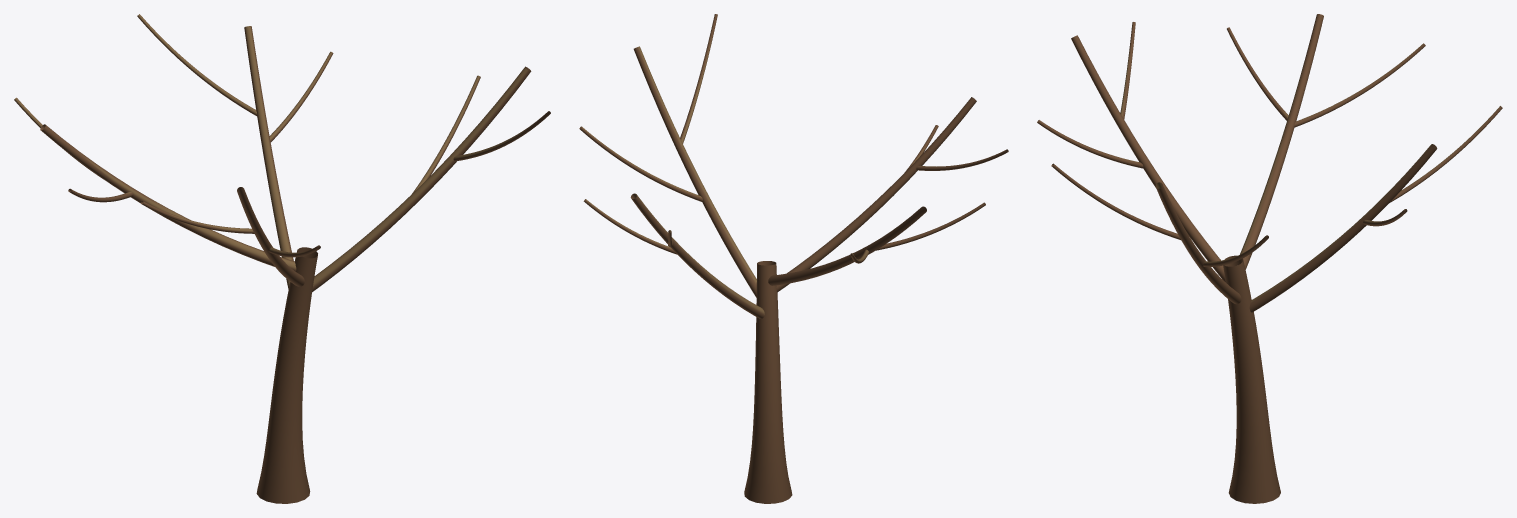
Rendered from colony-acacia-bark.obj.
3 views of the same model, side by side, from view 1: azimuth 30°, elevation 25°; view 2: azimuth 150°, elevation 25°; view 3: azimuth 270°, elevation 25° (orthographic). The views are drawn at different scales.
Parts seen in each view (by area): view 1: bark; view 2: bark; view 3: bark.
Part boxes in pixels (left/top/right/bottom): bark: left=14, top=14, right=550, bottom=503; bark: left=579, top=14, right=1008, bottom=503; bark: left=1037, top=14, right=1502, bottom=503.
Size of the model in its own units: 554 by 512 by 533.
